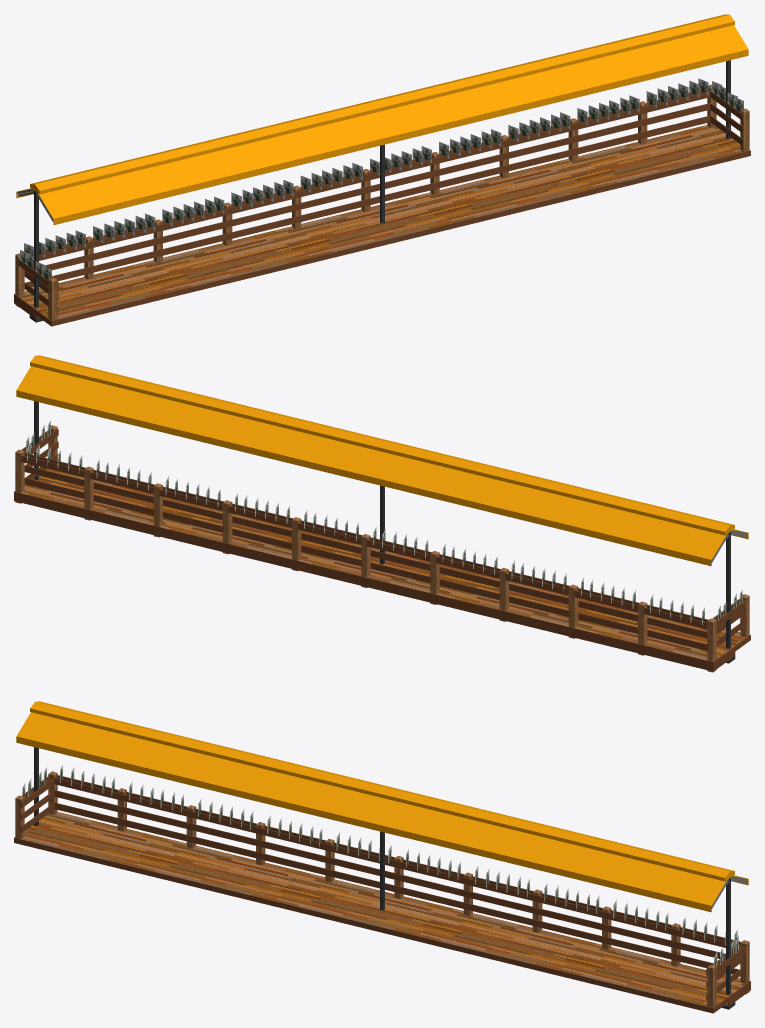
The model's file is deck.glb.
3 renders of one model, top to bottom at view 1: azimuth 30°, elevation 25°; view 2: azimuth 150°, elevation 25°; view 3: azimuth 330°, elevation 25°, orthographic.
Visible parts, largest first — view 1: object 25, object 27, object 34, object 35, object 26, object 10, Componente#2, object 40, object 44, object 38, object 39, object 37 (+2 smaller); view 2: object 25, object 27, object 10, object 35, object 34, object 43, object 42, object 38, object 37, object 41, object 36, object 39 (+4 smaller); view 3: object 25, object 27, object 34, object 35, object 26, object 39, object 38, object 44, object 43, object 40, object 45, object 41 (+5 smaller).
Boxes of the visible parts, x1,y1,x2,y2 form: object 25: (16, 14, 748, 225); object 27: (19, 125, 743, 319); object 34: (46, 103, 710, 270); object 35: (26, 115, 710, 287); object 26: (51, 150, 750, 326); object 10: (14, 125, 706, 302); Componente#2: (29, 190, 43, 322); object 40: (434, 140, 503, 164); object 44: (157, 208, 226, 231); object 38: (572, 106, 641, 130); object 39: (503, 123, 572, 147); object 37: (642, 89, 710, 113); object 25: (16, 355, 748, 566); object 27: (21, 468, 745, 660); object 10: (14, 491, 713, 671); object 35: (25, 478, 707, 650); object 34: (25, 465, 707, 638); object 43: (436, 554, 500, 578); object 42: (367, 537, 439, 561); object 38: (90, 470, 154, 494); object 37: (21, 453, 85, 477); object 41: (298, 520, 362, 544); object 36: (644, 605, 708, 629); object 39: (159, 486, 223, 510); object 25: (16, 701, 748, 912); object 27: (21, 812, 745, 1006); object 34: (54, 790, 725, 958); object 35: (54, 802, 738, 974); object 26: (14, 837, 713, 1013); object 39: (532, 893, 602, 917); object 38: (601, 910, 671, 934); object 44: (186, 809, 256, 833); object 43: (255, 825, 325, 849); object 40: (463, 876, 533, 900); object 45: (117, 792, 187, 816); object 41: (394, 859, 464, 883).
Size of the model in its own units: 17.64 by 3.26 by 1.68.
7 materials, 4 textured.
